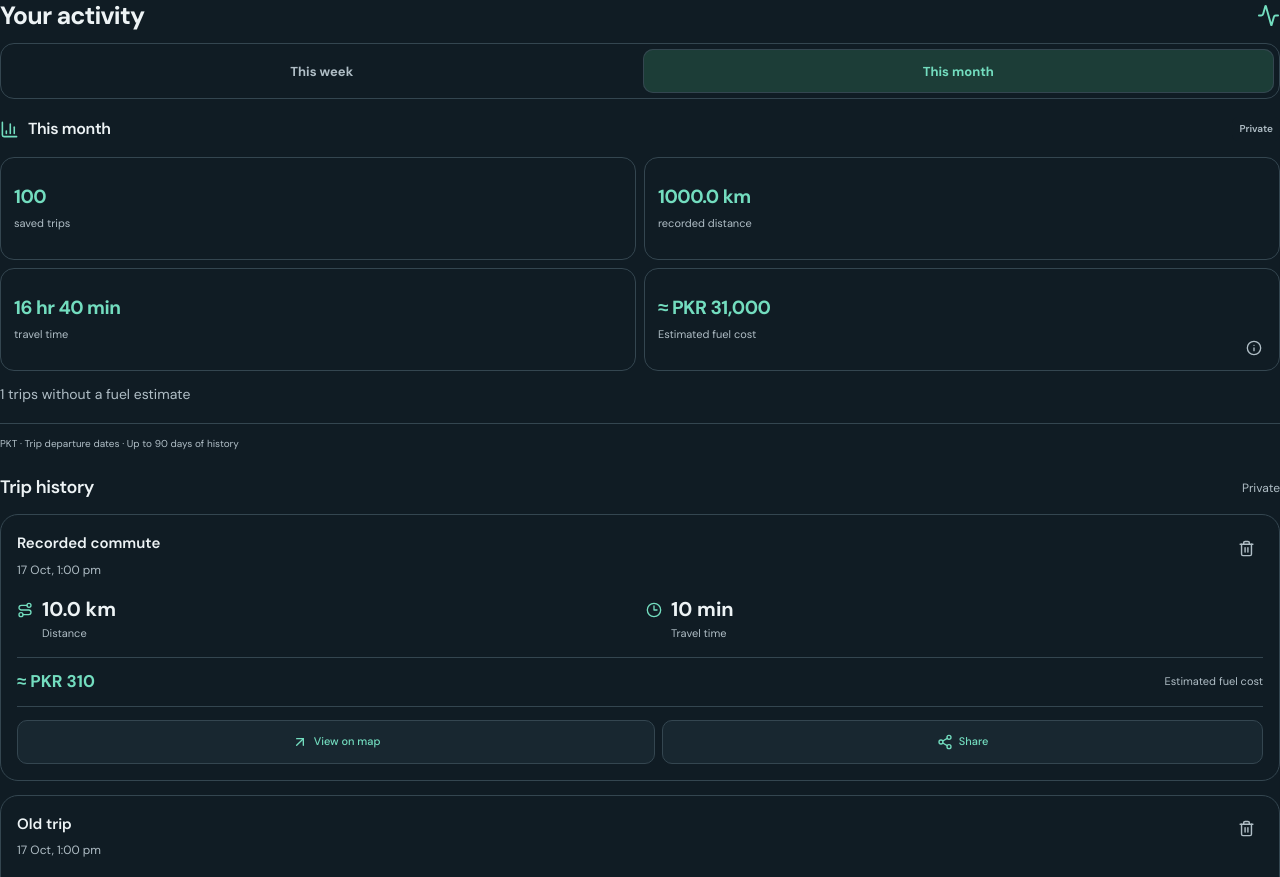
Test: shows monthly retained-history totals beyond the recent list without reading raw GPS
Check: the text "≈ PKR 31,000" is shown, box [658,295,770,320]
Check: the text "100" is shown, box [14,184,46,209]
Click the button named "About fuel estimates": [1254, 348] box [1232,326,1276,370]
(page scrolled)
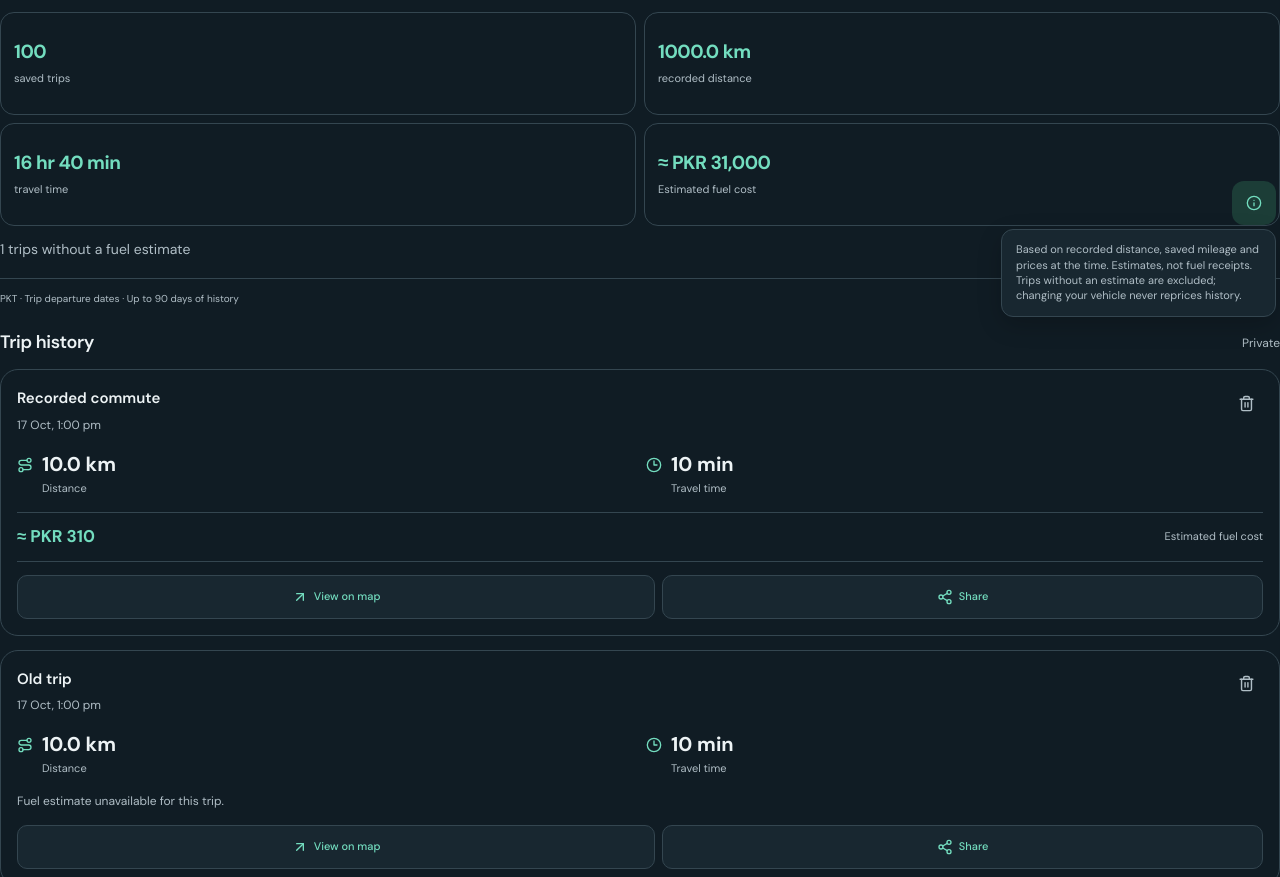
Check: the text "Fuel estimate unavailable for this trip." is shown, box [17,793,224,809]
Check: the tooltip shows "changing your vehicle never reprices history", box [1016,242,1259,302]
